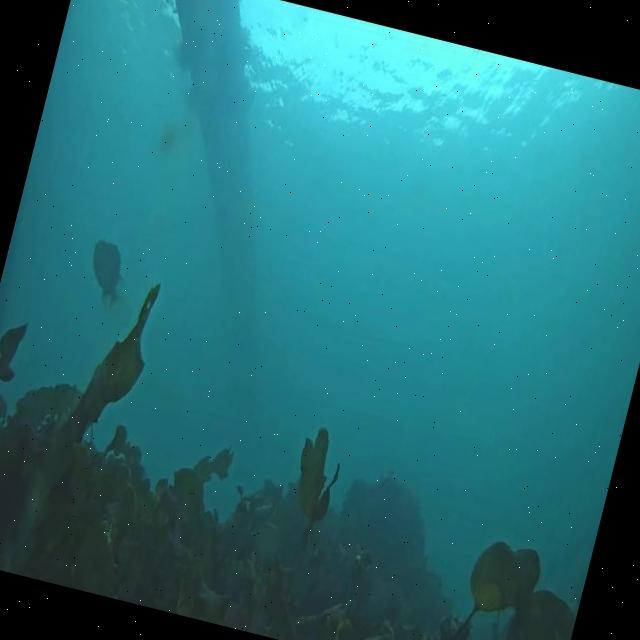fish: (78, 235, 139, 314)
